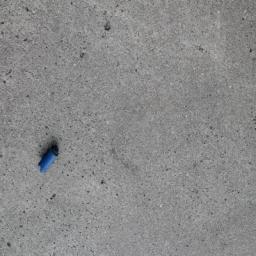FOD: (34, 143, 64, 175)
